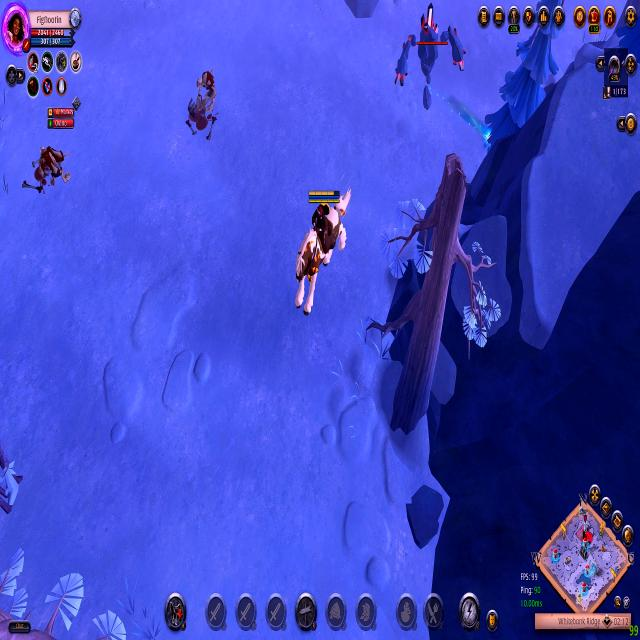ore: (388, 0, 470, 128), (186, 62, 227, 145), (28, 139, 78, 205)
red: (290, 184, 352, 322)
